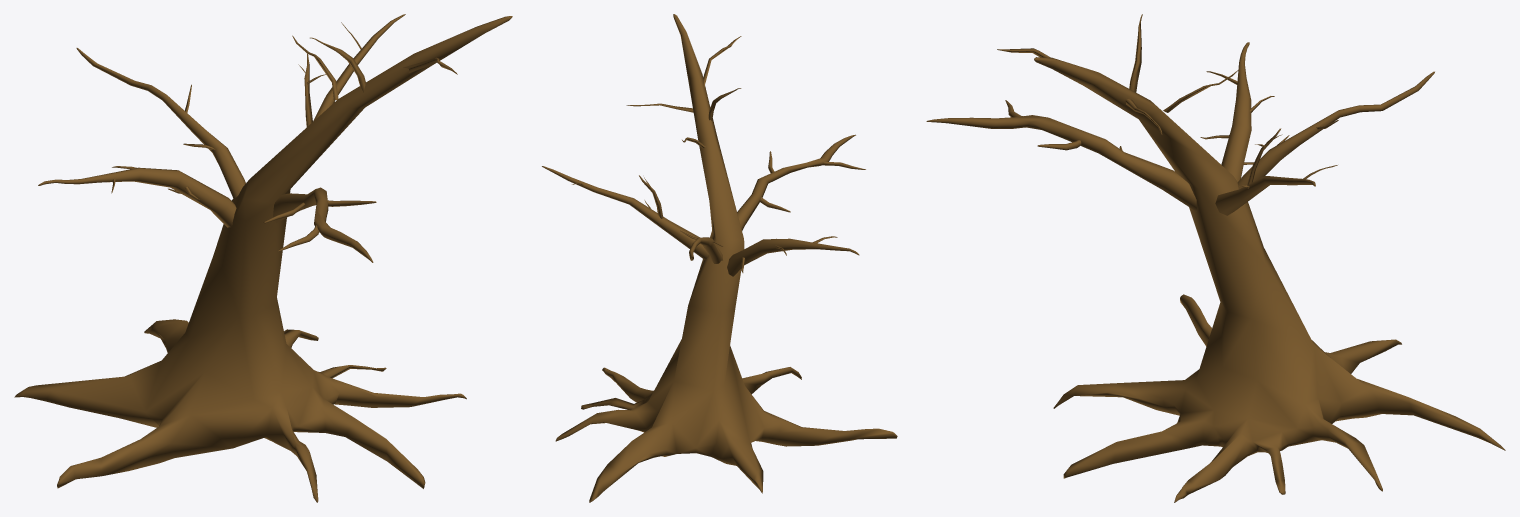
File: DeadTree.gltf
3 views of the same model, side by side, from view 1: azimuth 30°, elevation 25°; view 2: azimuth 150°, elevation 25°; view 3: azimuth 270°, elevation 25° (orthographic). The views are drawn at different scales.
Visible parts, largest first — view 1: DeadTree; view 2: DeadTree; view 3: DeadTree.
Boxes of the visible parts, x1=… form: DeadTree: x1=14, y1=14, x2=512, y2=502; DeadTree: x1=542, y1=14, x2=897, y2=502; DeadTree: x1=926, y1=14, x2=1505, y2=502.
Size of the model in its own units: 114258 by 121632 by 140290.
